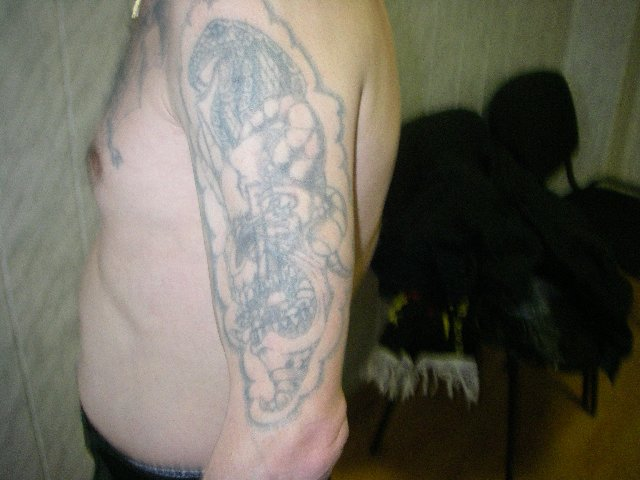tatu7_zmeya: (181, 12, 354, 410)
